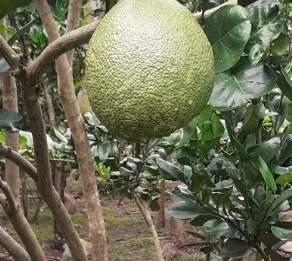Buoi: (87, 1, 219, 144)
